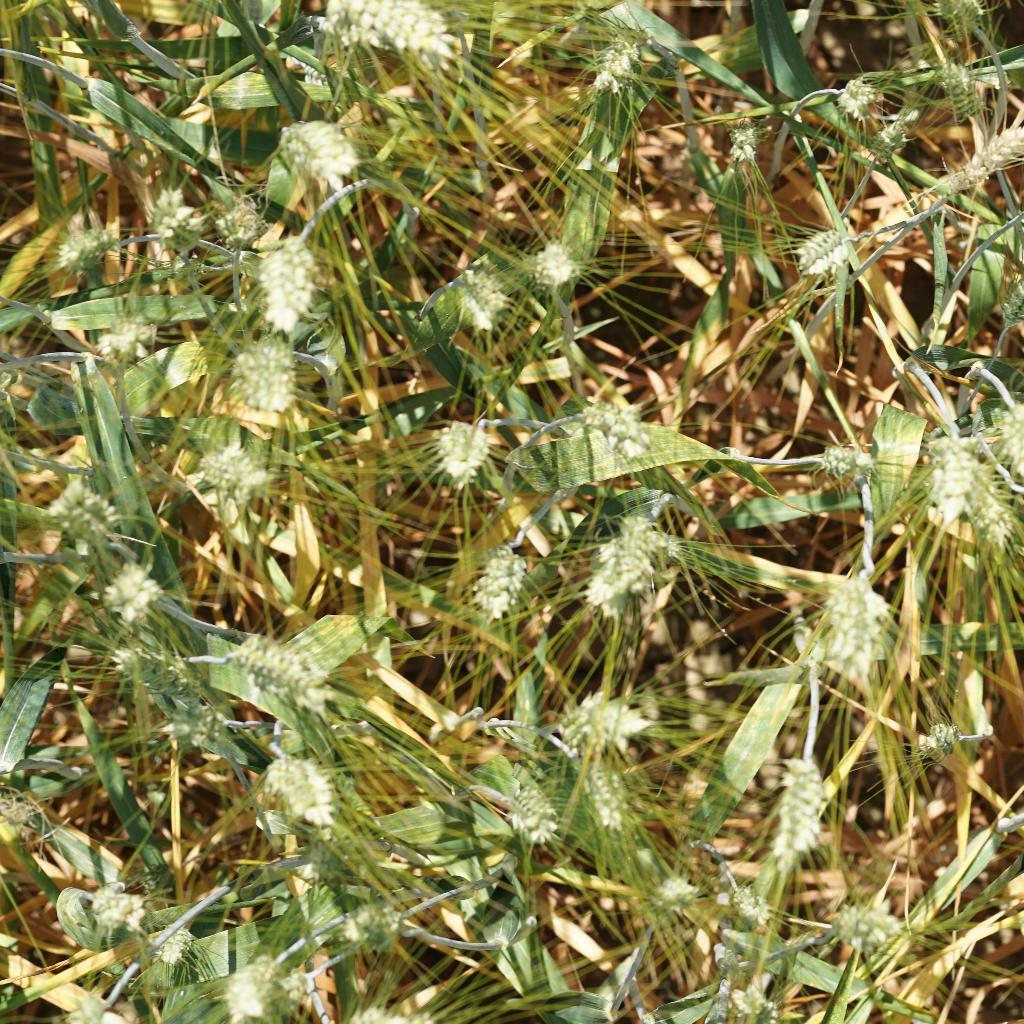0-0: (582, 504, 672, 617), (314, 0, 448, 74), (225, 639, 343, 720), (245, 736, 343, 830), (276, 114, 370, 205), (765, 740, 832, 867), (33, 466, 130, 553), (813, 564, 894, 666), (240, 235, 321, 331), (88, 639, 206, 703), (459, 535, 537, 626), (210, 941, 294, 1024), (580, 18, 651, 115), (415, 410, 494, 492), (230, 329, 299, 418), (202, 445, 276, 527), (793, 208, 864, 292), (920, 418, 976, 524), (141, 688, 234, 751), (552, 686, 641, 751), (100, 555, 174, 630), (920, 52, 1000, 118), (137, 187, 212, 256), (335, 890, 413, 956), (964, 466, 1019, 557), (570, 759, 639, 830), (451, 261, 516, 335), (717, 108, 773, 190), (957, 119, 1024, 187), (496, 773, 557, 847), (529, 228, 593, 298), (38, 219, 114, 277), (587, 404, 660, 463), (643, 866, 706, 931), (825, 899, 900, 953), (137, 901, 198, 967), (904, 710, 972, 769), (83, 314, 149, 372), (822, 64, 882, 126), (916, 0, 1001, 41), (79, 879, 145, 929), (720, 879, 783, 931), (721, 976, 788, 1024), (989, 393, 1024, 484), (818, 428, 873, 485), (217, 198, 264, 257), (866, 101, 909, 164), (986, 266, 1024, 329)
